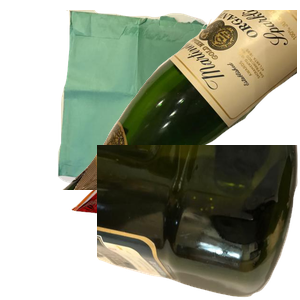glass: (60, 10, 300, 190)
paper: (55, 10, 255, 190)
plastic: (97, 145, 300, 300)
trash: (69, 153, 239, 300)
